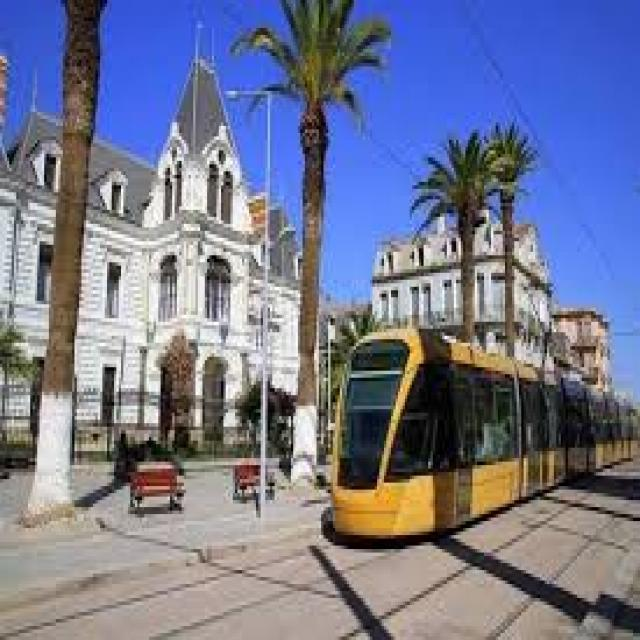Lamppost: (227, 80, 284, 520)
Train: (330, 288, 639, 518)
chair: (110, 397, 218, 530), (228, 428, 286, 512)
tree: (29, 4, 101, 526), (290, 14, 356, 514), (419, 119, 484, 393), (484, 91, 534, 378)
